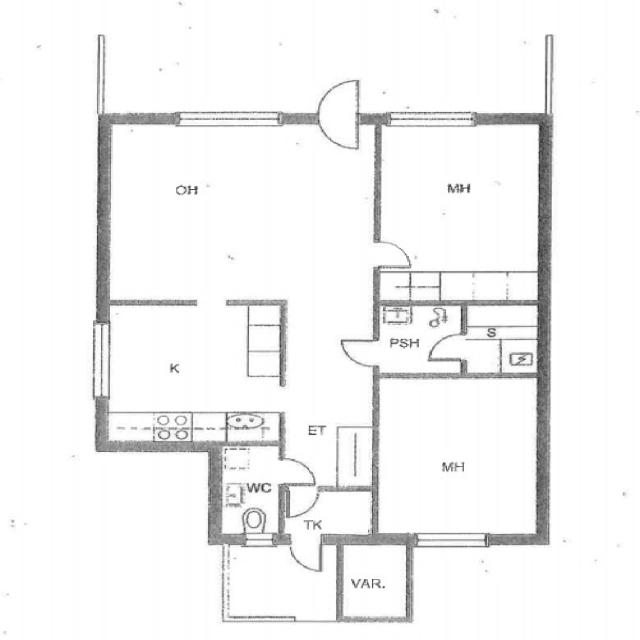door: (217, 444, 284, 544), (381, 303, 471, 372), (314, 78, 364, 155), (332, 331, 388, 371), (366, 234, 420, 272), (424, 329, 472, 365), (281, 483, 321, 521), (277, 456, 319, 488), (287, 538, 323, 574)
window: (172, 104, 286, 135), (82, 316, 117, 403), (382, 107, 483, 134), (409, 528, 495, 553)
zone: (98, 120, 375, 305), (374, 121, 546, 301), (372, 372, 545, 539), (97, 302, 285, 446), (374, 302, 466, 378), (216, 444, 284, 546), (463, 303, 544, 378), (340, 540, 408, 622)
